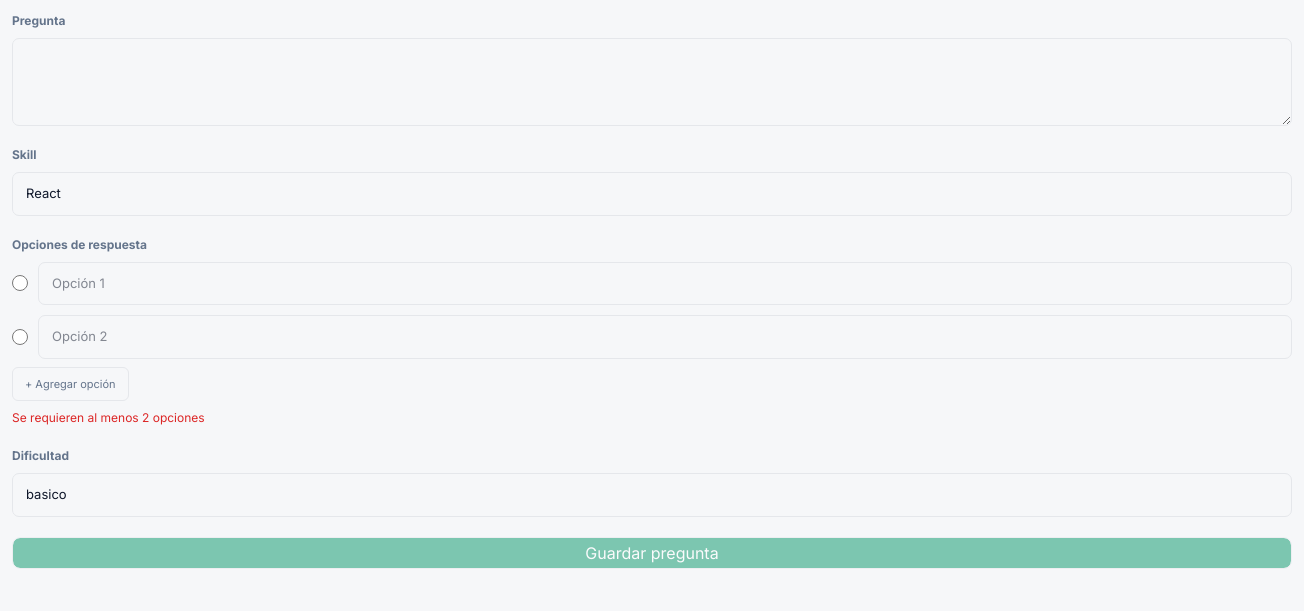
Test: ExamQuestionForm › shows "La pregunta es obligatoria" on blur when empty, without calling onSubmit
Check: the dropdown labelled "Skill" is enabled, box top-left (12, 172), bottom-right (1292, 216)
Click the text box labelled "Pregunta": (652, 82) top-left (12, 38), bottom-right (1292, 126)
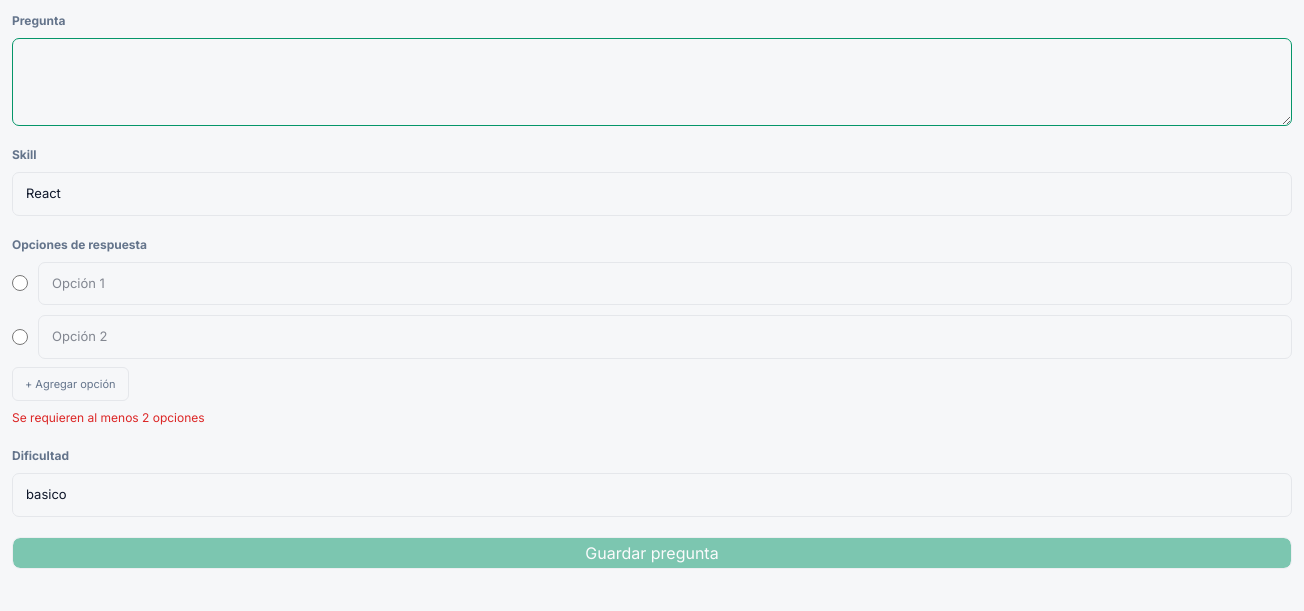
Press Tab
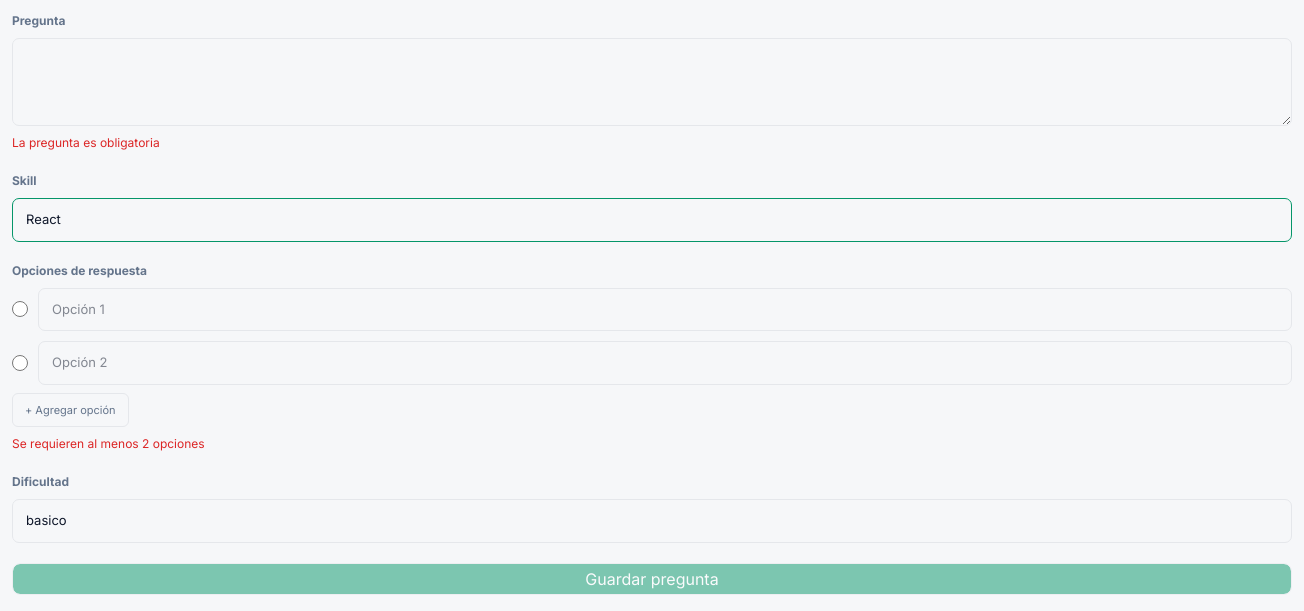
Check: the text "La pregunta es obligatoria" is shown, box top-left (12, 135), bottom-right (160, 150)
